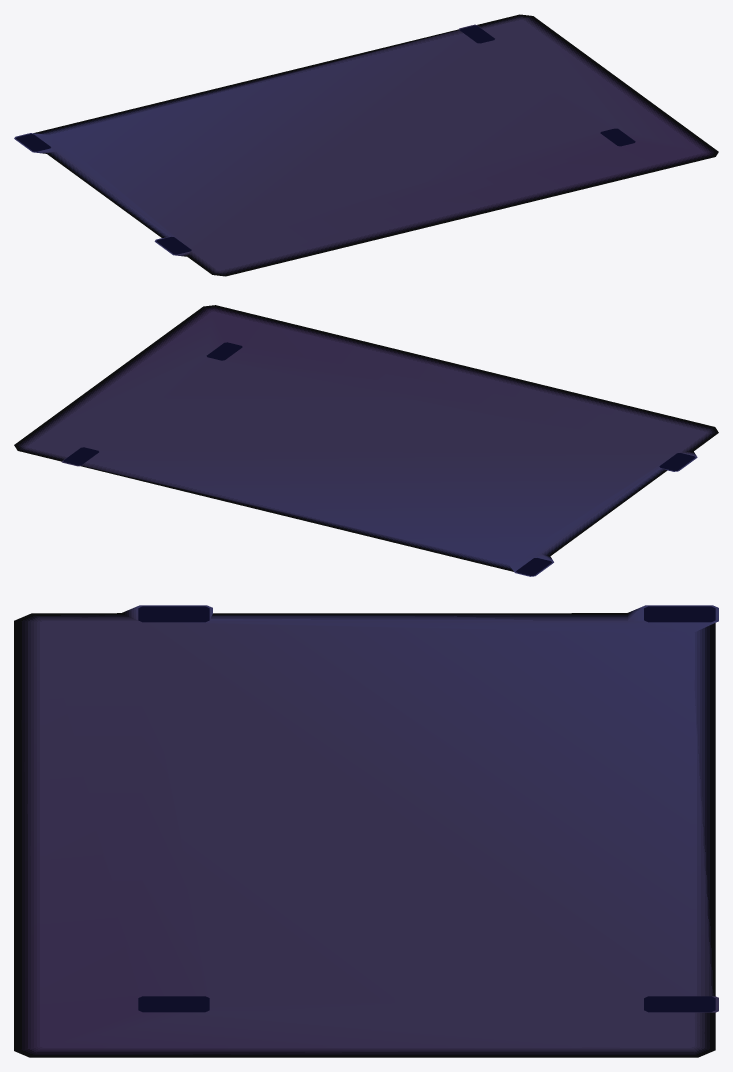
3 renders of one model, top to bottom at view 1: azimuth 30°, elevation 25°; view 2: azimuth 150°, elevation 25°; view 3: azimuth 270°, elevation 25°, orthographic. The views are drawn at different scales.
Visible parts, largest first — view 1: Joint_0_Object_0; view 2: Joint_0_Object_0; view 3: Joint_0_Object_0.
Boxes of the visible parts, x1,y1,x2,y2 form: Joint_0_Object_0: (14,14,718,276); Joint_0_Object_0: (14,305,718,576); Joint_0_Object_0: (14,605,718,1057).
Size of the model in its own units: 1683 by 0 by 1108.
Materials: 1 (1 with a texture image).
